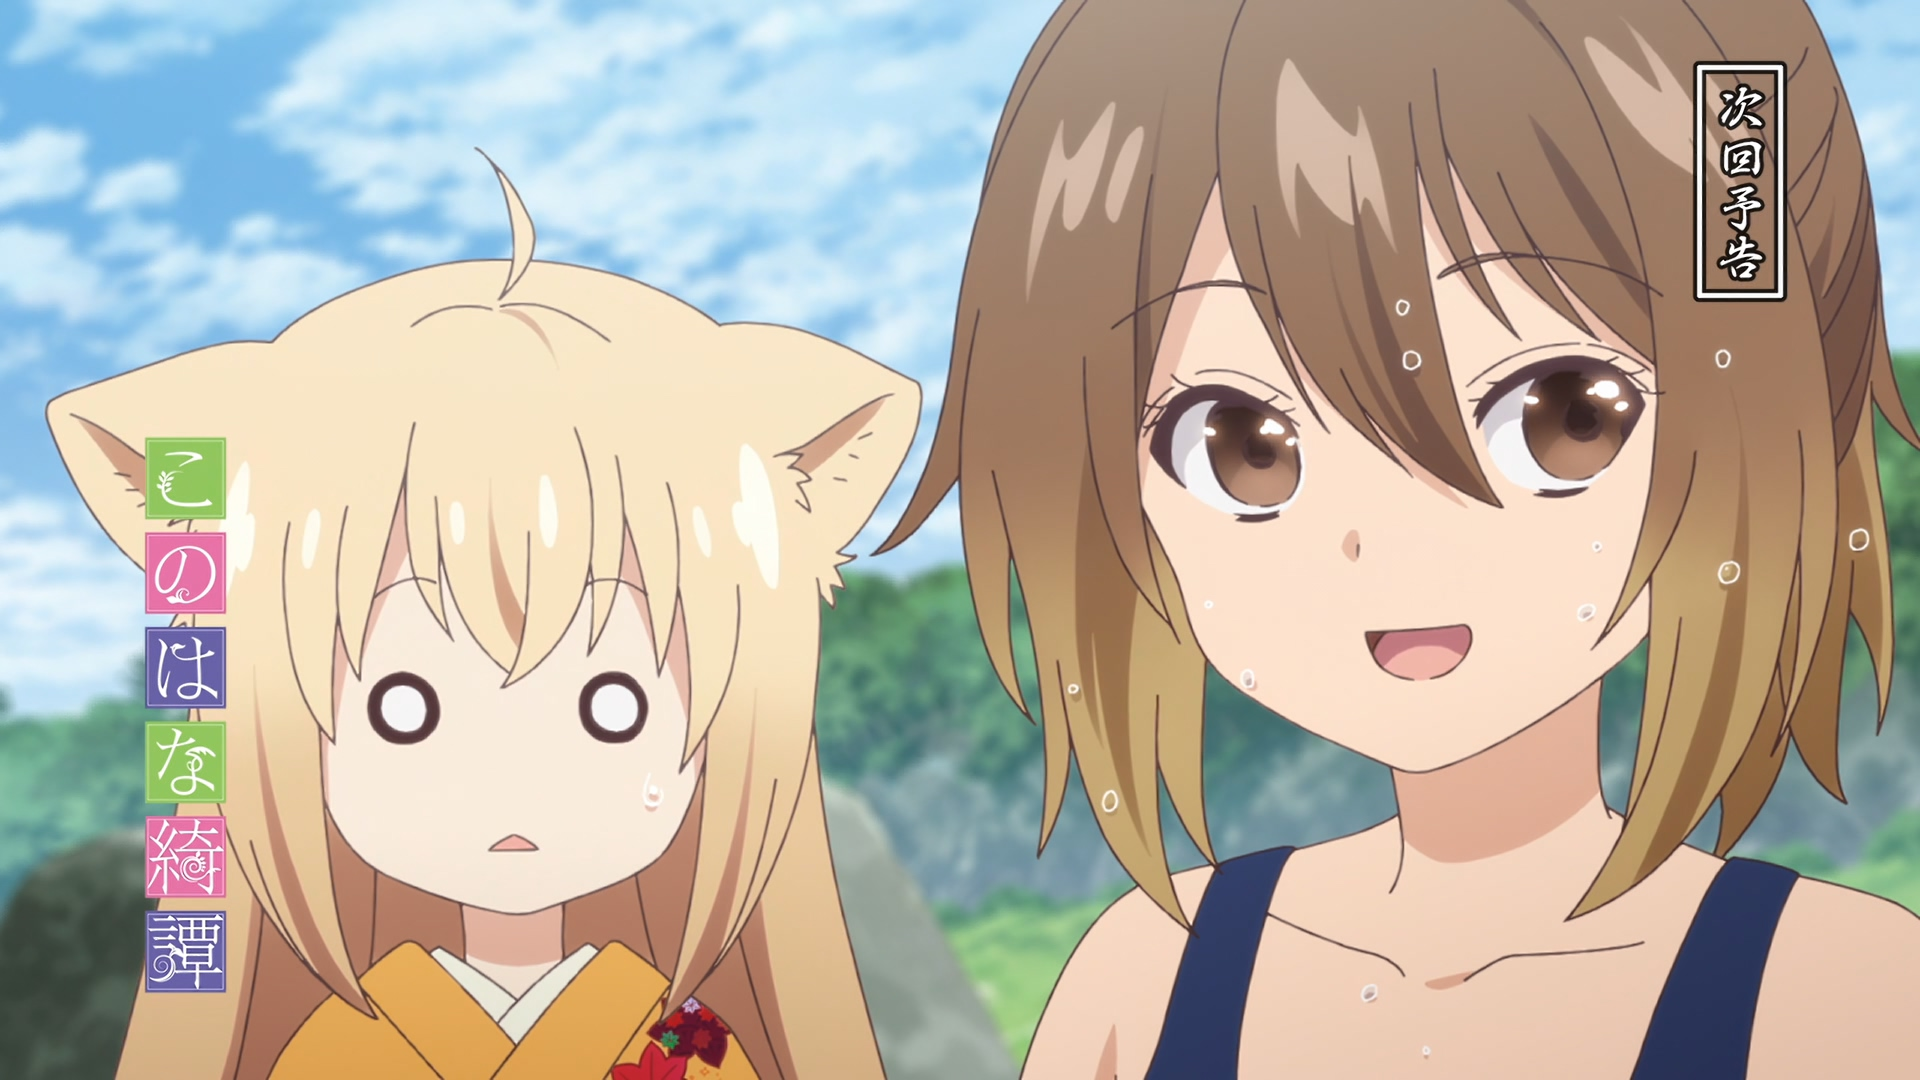其他: (872, 1, 1920, 1080)
柚: (45, 149, 920, 1080)
